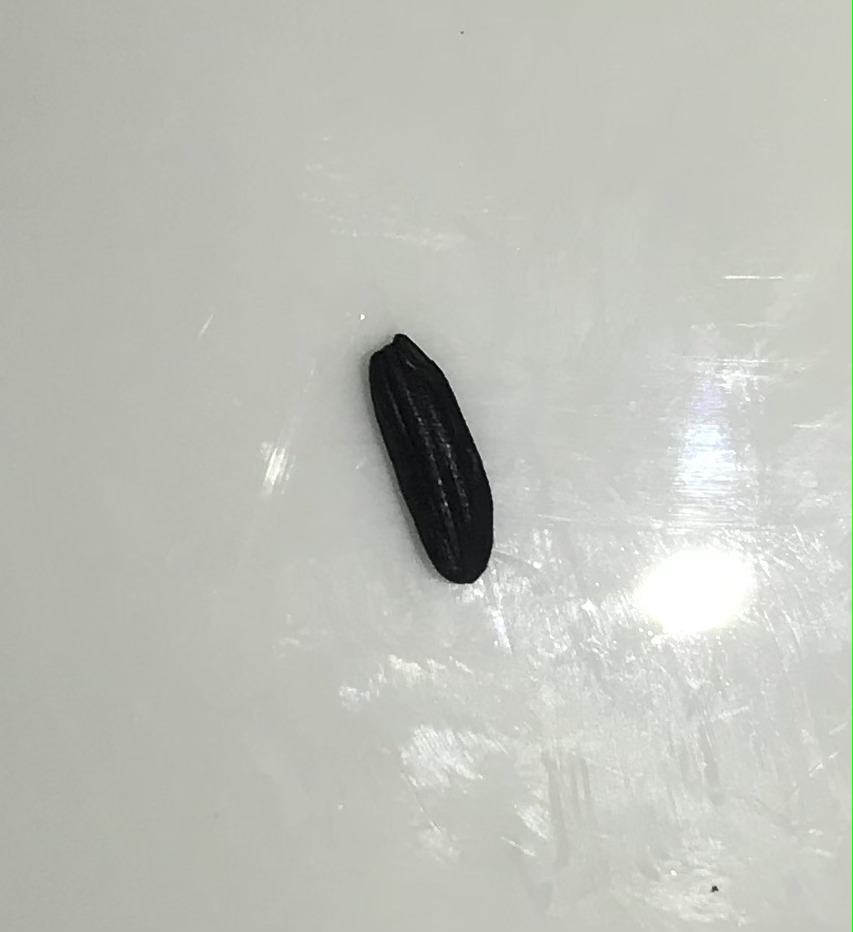Gao lut: (360, 336, 504, 589)
